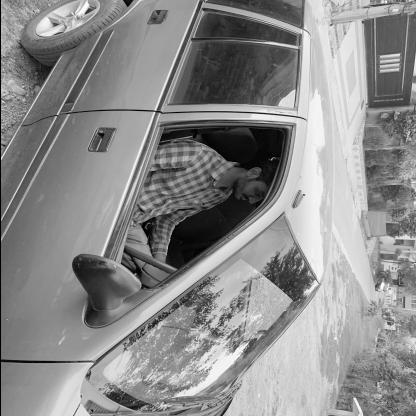no_seatbelt: (134, 140, 264, 226)
